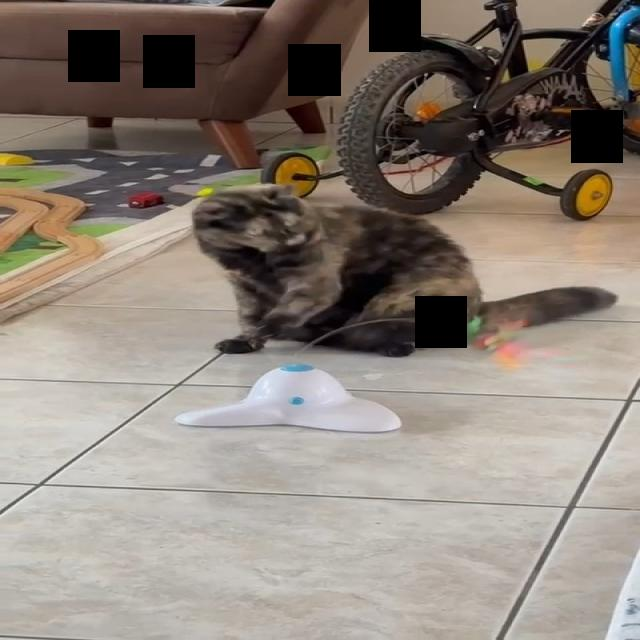authorized: (190, 182, 618, 358)
